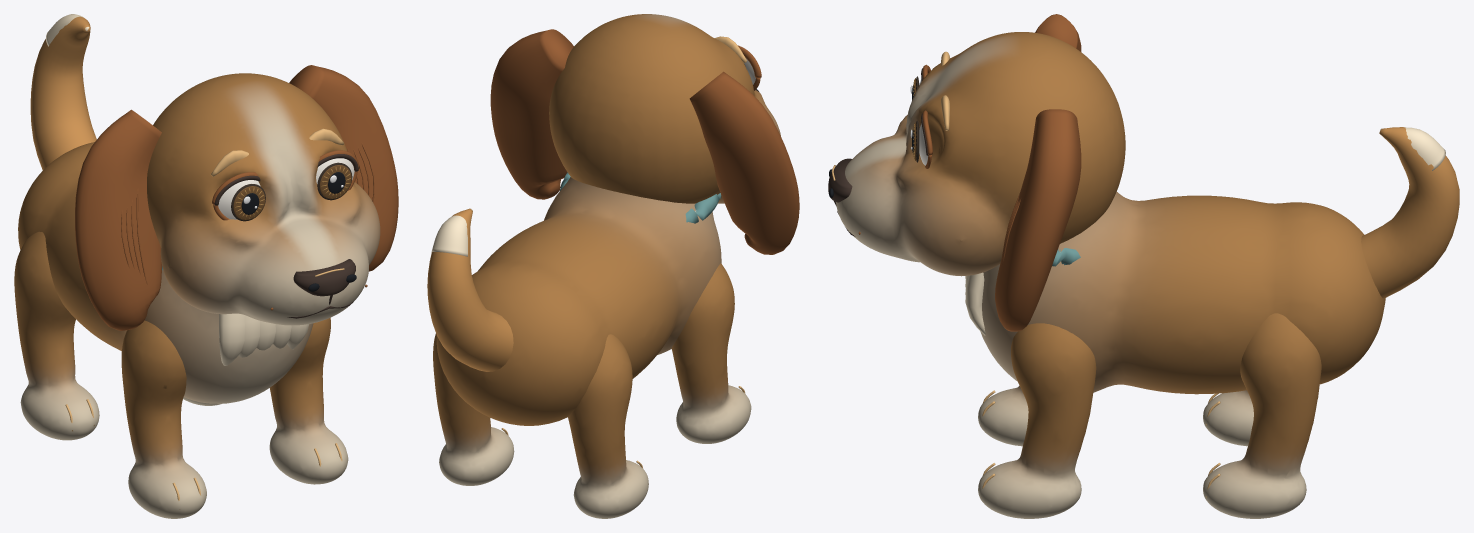
Rendered from dog.glb.
3 views of the same model, side by side, from view 1: azimuth 30°, elevation 25°; view 2: azimuth 150°, elevation 25°; view 3: azimuth 270°, elevation 25° (orthographic). The views are drawn at different scales.
Parts seen in each view (by area): view 1: Sculpted puppy face, Sculpted puppy body, Velvet floppy ear, Sculpted leg and paw, Sculpted leg and paw.001, Sculpted leg and paw.002, Velvet floppy ear.001, Curled tail, Sculpted puppy nose, Chest feathering, Chest feathering.001, Hazel iris.002 (+2 smaller); view 2: Sculpted puppy body, Sculpted puppy face, Velvet floppy ear, Velvet floppy ear.001, Sculpted leg and paw.001, Sculpted leg and paw, Curled tail, Sculpted leg and paw.003, Cream tail tip, Woven collar; view 3: Sculpted puppy body, Sculpted puppy face, Sculpted leg and paw.002, Sculpted leg and paw.003, Velvet floppy ear.001, Curled tail, Sculpted leg and paw, Sculpted leg and paw.001, Cream tail tip, Velvet floppy ear, Chest feathering.004.
Part boxes in pixels (x1,y1,x2,y2): Sculpted puppy face: (147,73,380,325); Sculpted puppy body: (18,142,313,403); Velvet floppy ear: (75,109,161,330); Sculpted leg and paw: (121,320,206,518); Sculpted leg and paw.001: (14,231,99,440); Sculpted leg and paw.002: (269,317,348,484); Velvet floppy ear.001: (289,65,398,271); Curled tail: (30,16,96,170); Sculpted puppy nose: (293,259,355,296); Chest feathering: (219,313,244,365); Chest feathering.001: (238,315,259,357); Hazel iris.002: (233,186,265,220); Sculpted puppy body: (436,177,721,425); Sculpted puppy face: (549,14,780,203); Velvet floppy ear: (689,71,799,254); Velvet floppy ear.001: (490,29,573,199); Sculpted leg and paw.001: (568,334,648,518); Sculpted leg and paw: (671,263,751,443); Curled tail: (427,208,513,371); Sculpted leg and paw.003: (433,333,514,485); Cream tail tip: (431,209,472,256); Woven collar: (560,172,721,223); Sculpted puppy body: (980,192,1385,394); Sculpted puppy face: (836,32,1125,276); Sculpted leg and paw.002: (978,323,1096,518); Sculpted leg and paw.003: (1203,313,1321,518); Velvet floppy ear.001: (995,109,1081,331); Curled tail: (1361,127,1459,298); Sculpted leg and paw: (978,386,1028,446); Sculpted leg and paw.001: (1203,390,1253,446); Cream tail tip: (1380,127,1445,170); Velvet floppy ear: (1035,14,1081,51); Chest feathering.004: (965,272,985,335).
Size of the model in its own units: 1.21 by 1.52 by 1.99.
